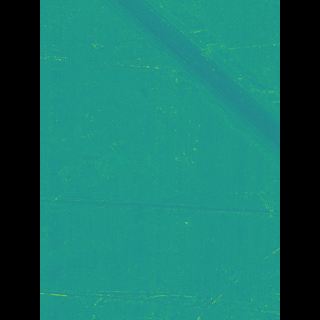Loch: (112, 0, 249, 169), (70, 17, 96, 319), (69, 185, 251, 225)
